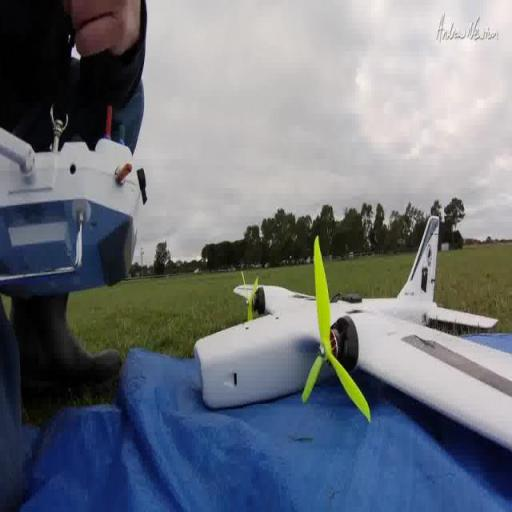uav: (193, 206, 512, 467)
